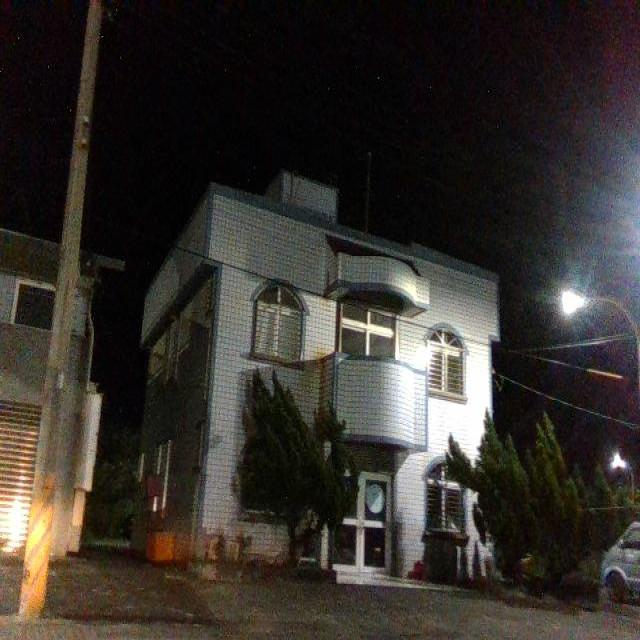pollute: (141, 533, 178, 569)
